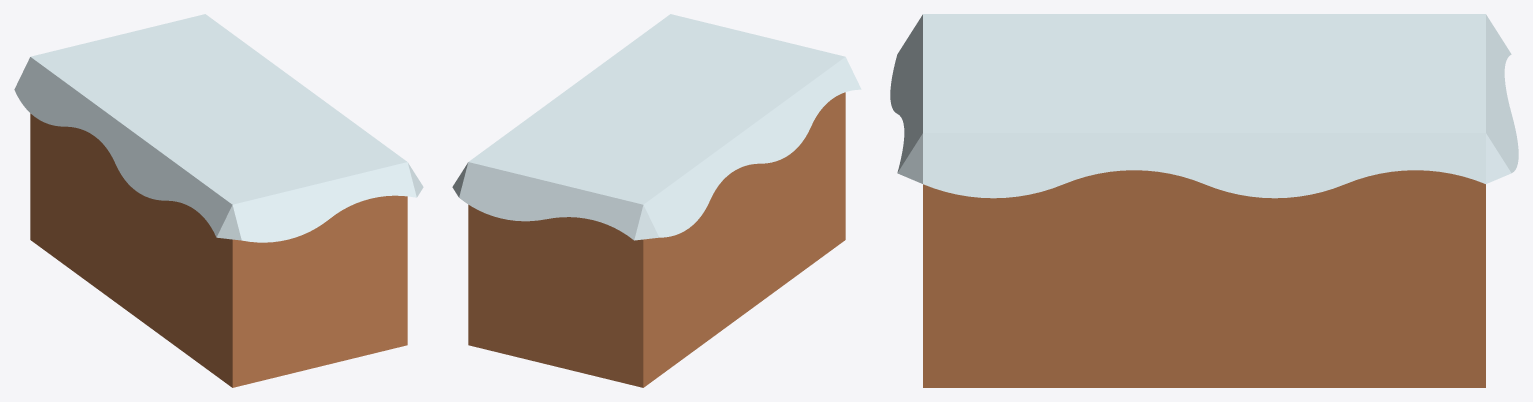
Rendered from blockSnowLong.dae.
3 views of the same model, side by side, from view 1: azimuth 30°, elevation 25°; view 2: azimuth 150°, elevation 25°; view 3: azimuth 270°, elevation 25° (orthographic). The views are drawn at different scales.
Parts seen in each view (by area): view 1: blockSnowLong; view 2: blockSnowLong; view 3: blockSnowLong.
Boxes of the visible parts, <box> form: blockSnowLong: <box>14,14,423,387</box>; blockSnowLong: <box>452,14,861,387</box>; blockSnowLong: <box>890,14,1518,387</box>.
Size of the model in its own units: 1.23 by 1 by 2.23.
